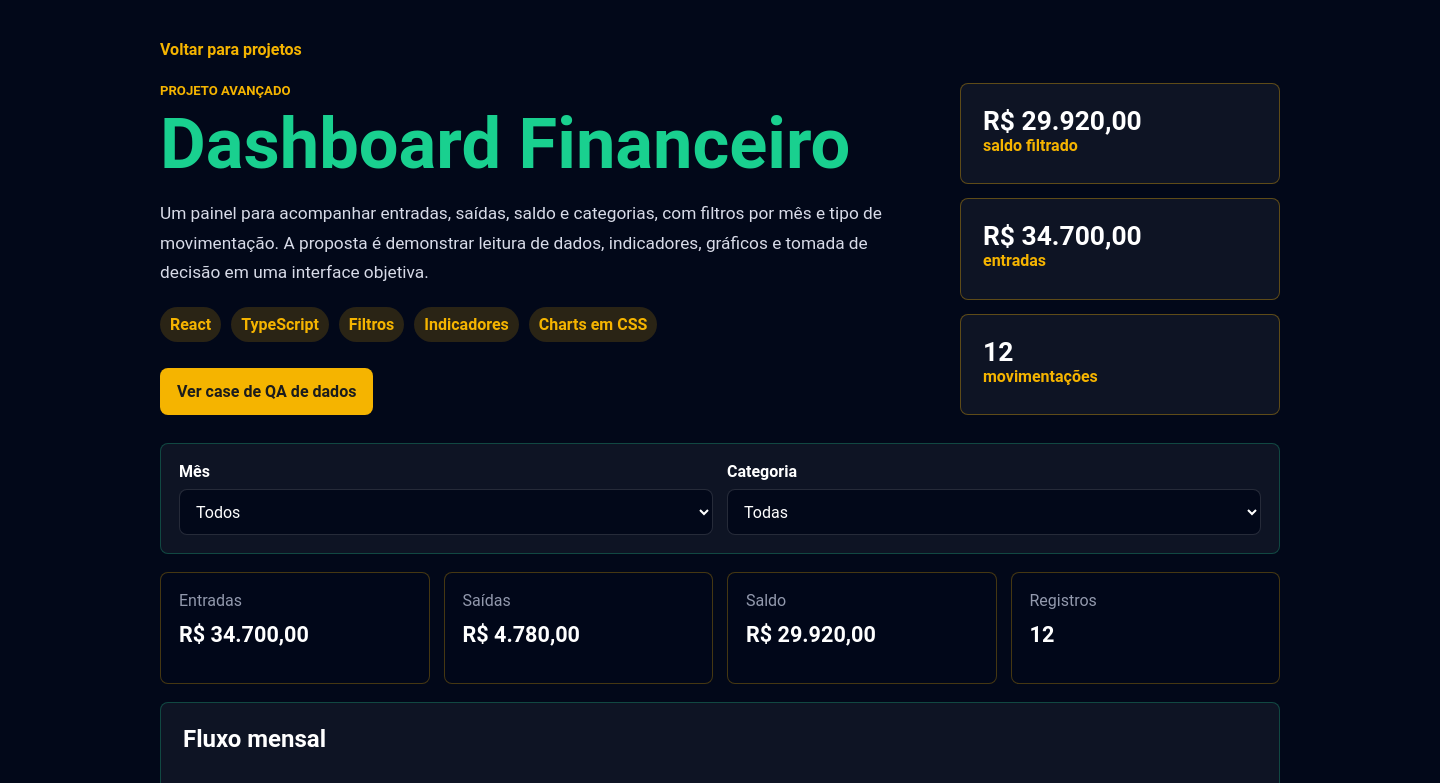
Test: Projeto Dashboard Financeiro › explica quando uma combinação de filtros não possui dados
Select "Janeiro" in the dropdown labelled "Mês" at (446, 512), box [179,489,713,535]
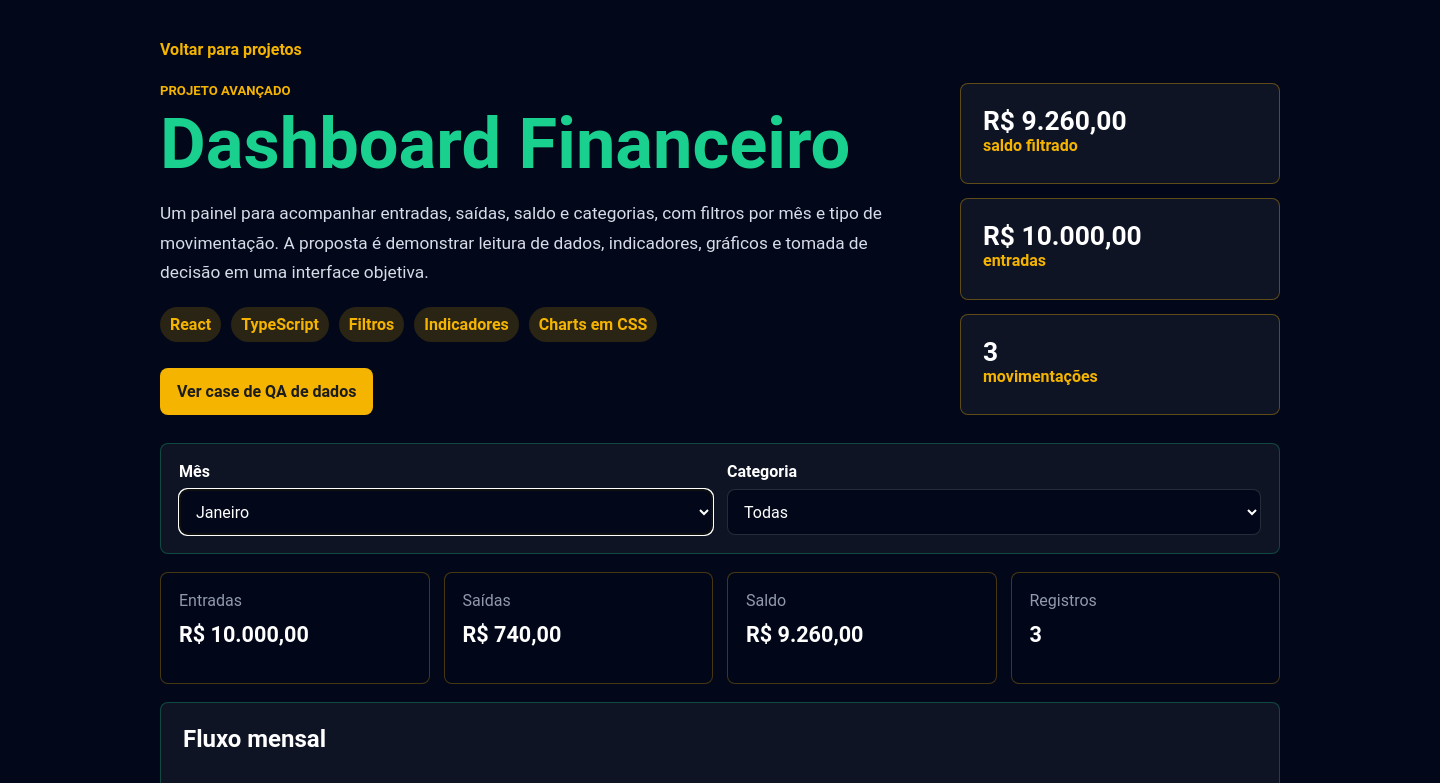
Select "Cursos" in the dropdown labelled "Categoria" at (994, 512), box [727,489,1261,535]
(page scrolled)
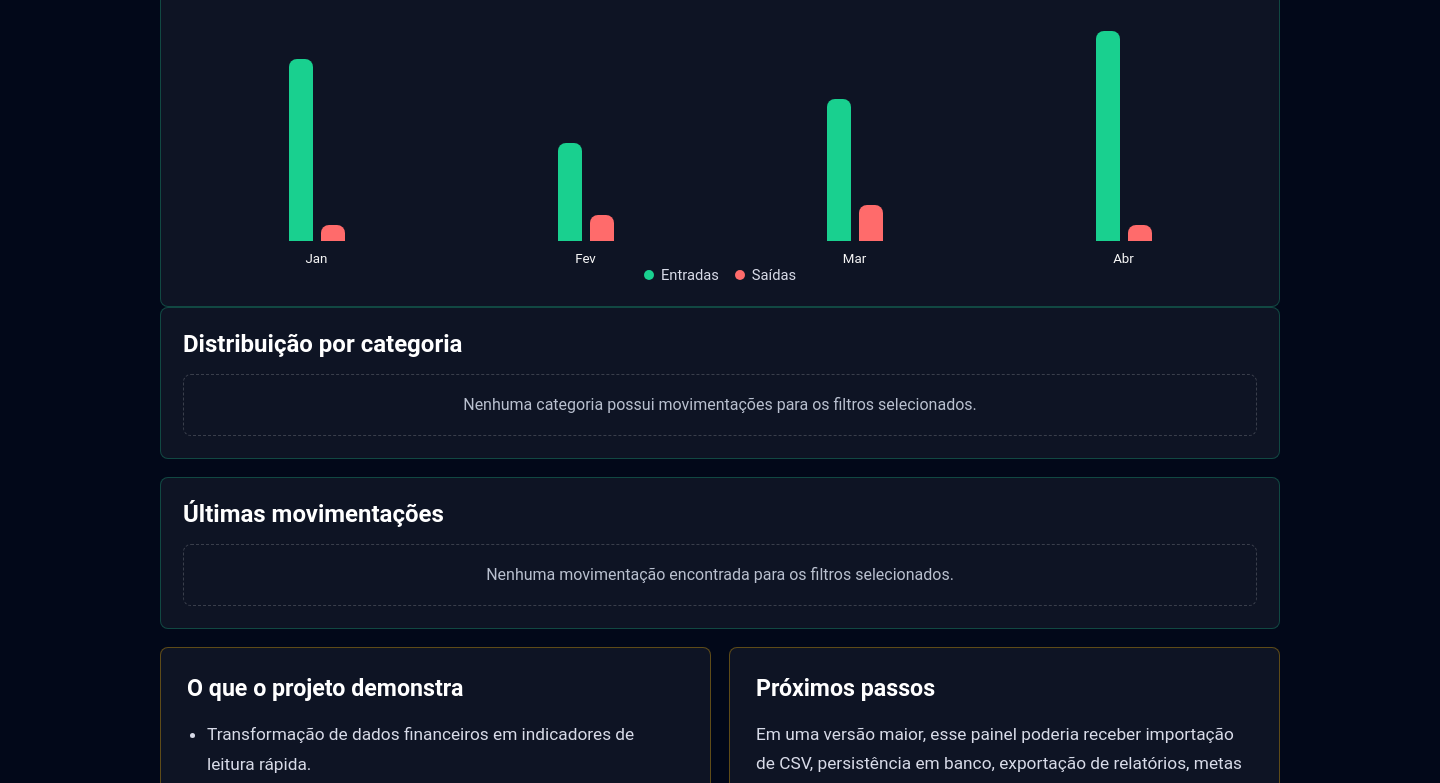
Expected: the text "Nenhuma movimentação encontrada para os filtros selecionados." is shown, [183,544,1257,606]
Expected: the text "Nenhuma categoria possui movimentações para os filtros selecionados." is shown, [183,374,1257,436]
